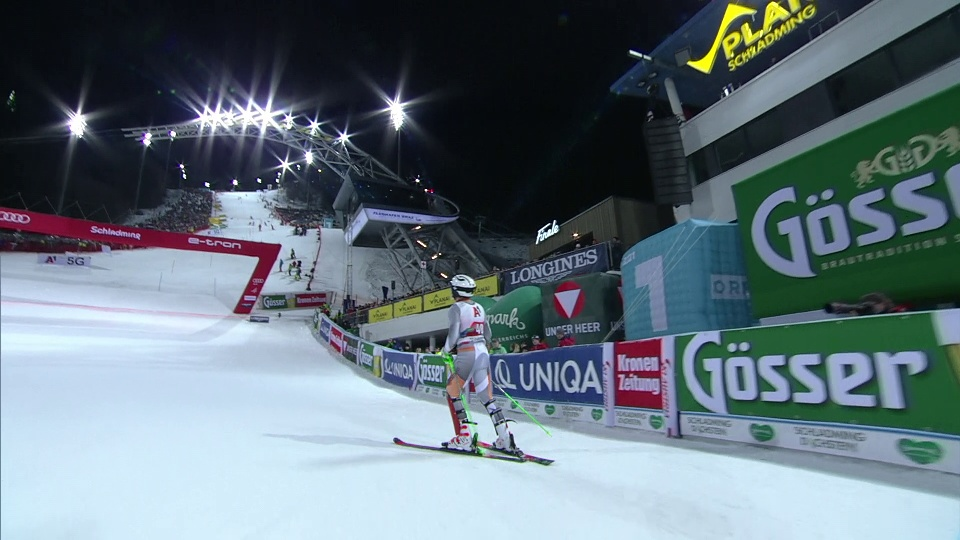a1: (44, 255, 61, 267)
audi: (1, 210, 35, 226)
etron: (187, 235, 248, 252)
goesser: (714, 112, 959, 281), (686, 317, 945, 419), (418, 358, 454, 388), (260, 296, 289, 311)
kronenzeitung: (616, 349, 664, 407), (91, 224, 142, 244)
longines: (507, 251, 610, 287)
schladming: (794, 428, 866, 459), (693, 418, 737, 449)
steiermark: (895, 437, 952, 467), (748, 423, 779, 447)
uniqa: (492, 351, 607, 404), (382, 356, 415, 385)
unserheer: (544, 284, 597, 339)
